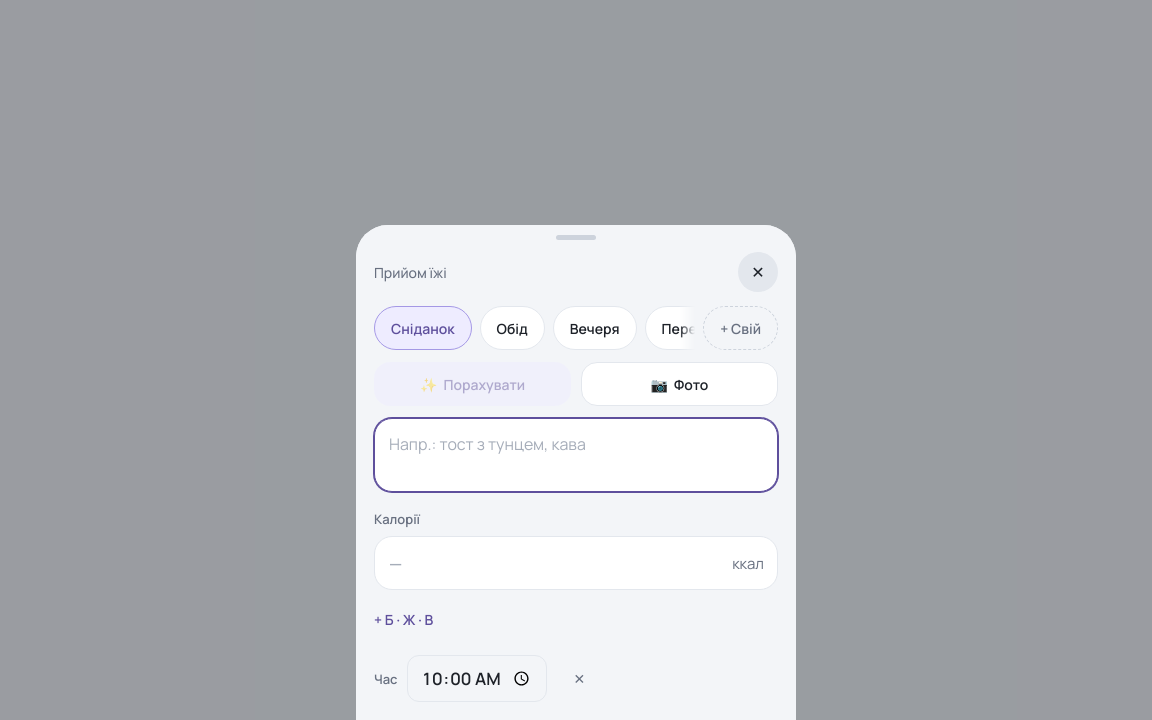
Test case: MealEditorBody: the layout › after an estimate too: «Прибрати ці позиції» and the AI row are named by what they show (WCAG 2.5.3)
Type "тост з тунцем, кава" into the text box named "Що я їла" at (576, 455), box [374,418,778,492]
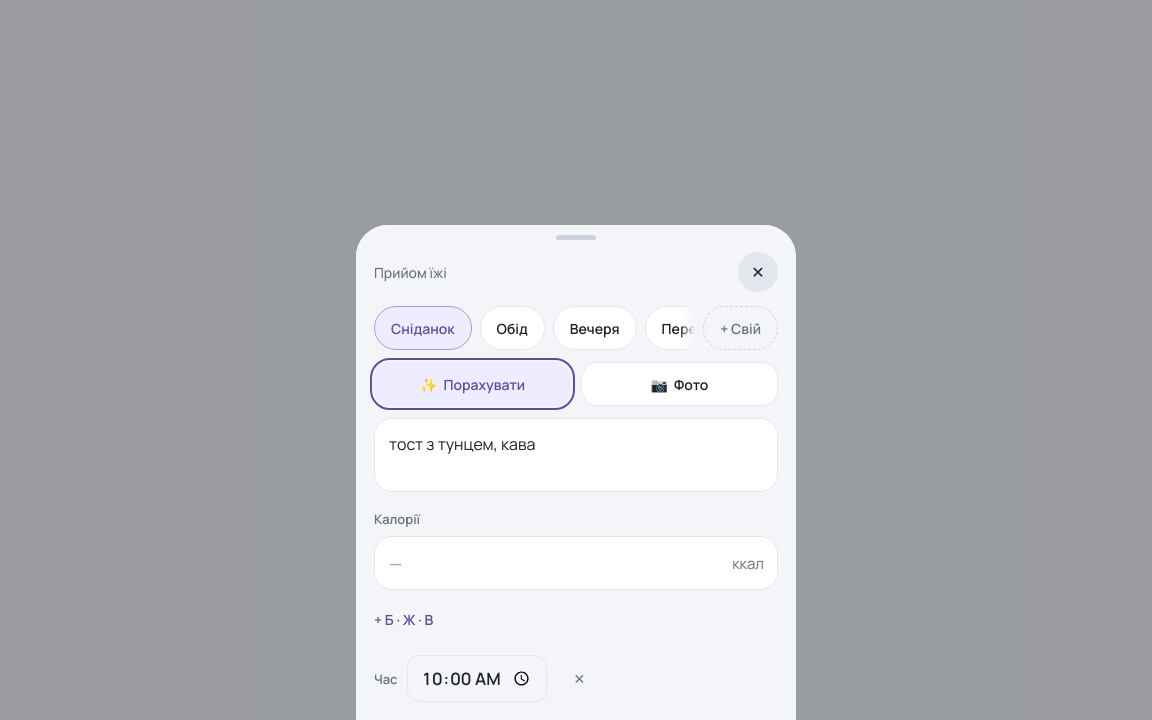
Click the button "✨ Порахувати" at (472, 384), box [374,362,571,406]
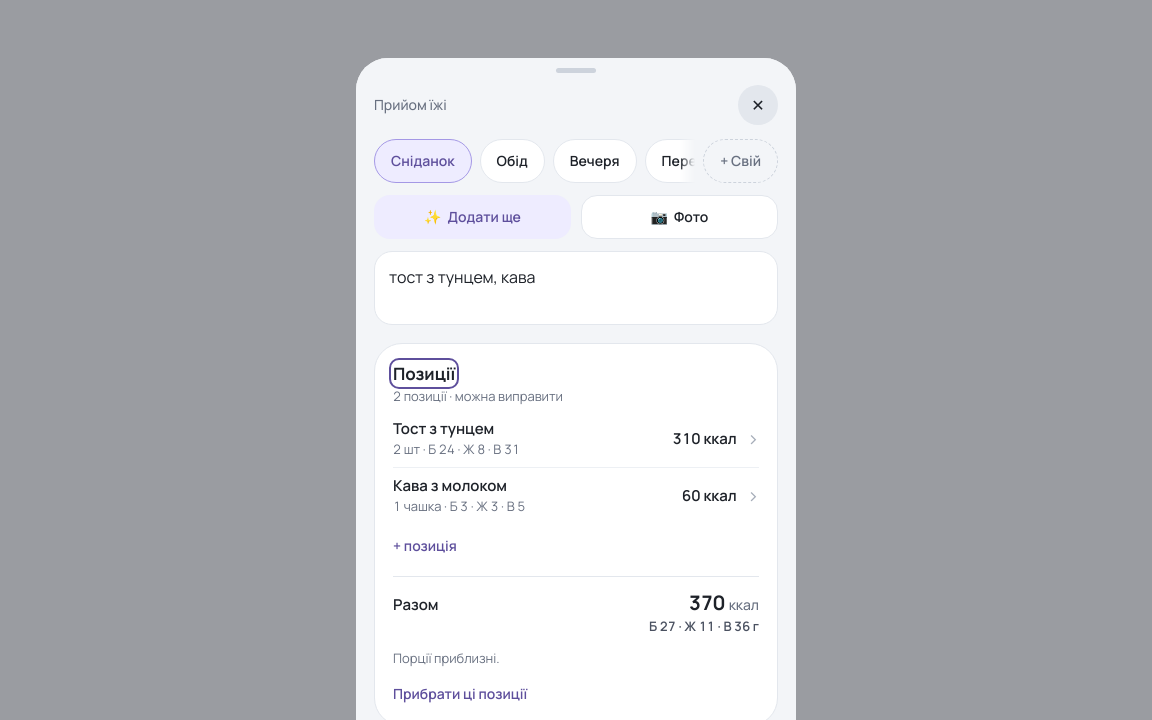
Expected: the element "Позиції" is shown, [374,343,778,719]
Expected: the button with aria-label "Прибрати ці позиції — останній підрахунок" reads "Прибрати ці позиції", [393,676,527,711]
Expected: the button "+ позиція" is shown, [383,524,467,568]
